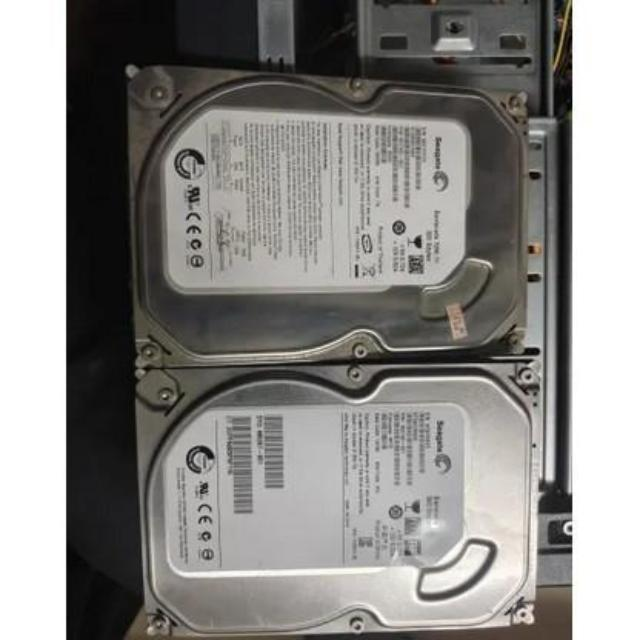DISK: (120, 63, 528, 357), (135, 372, 537, 630)
